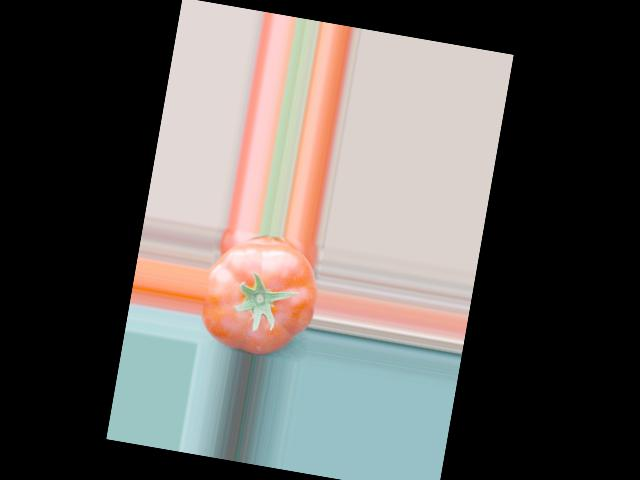tomato: (196, 233, 325, 362)
